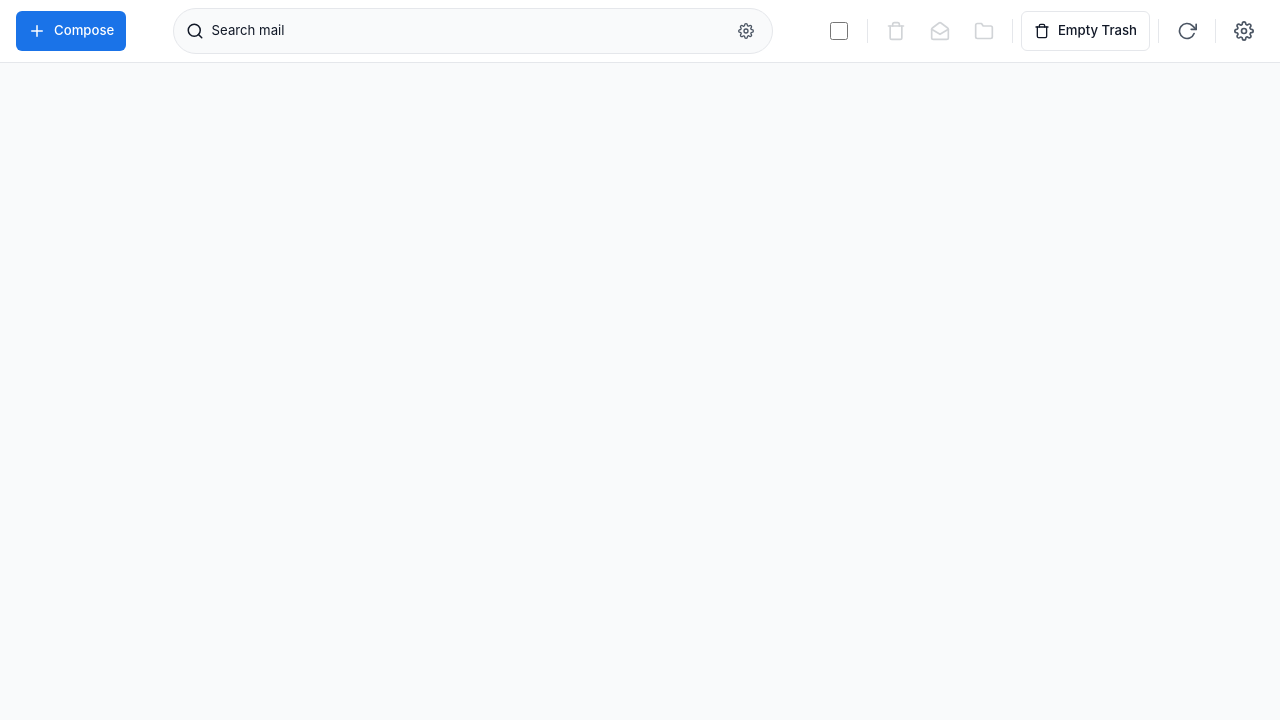
Test: Toolbar — Singular email in confirmation › uses singular "email" when totalCount is 1 for trash
The image size is (1280, 720).
Click the button "Empty Trash".
click(1085, 31)  # box [1021,11,1150,51]
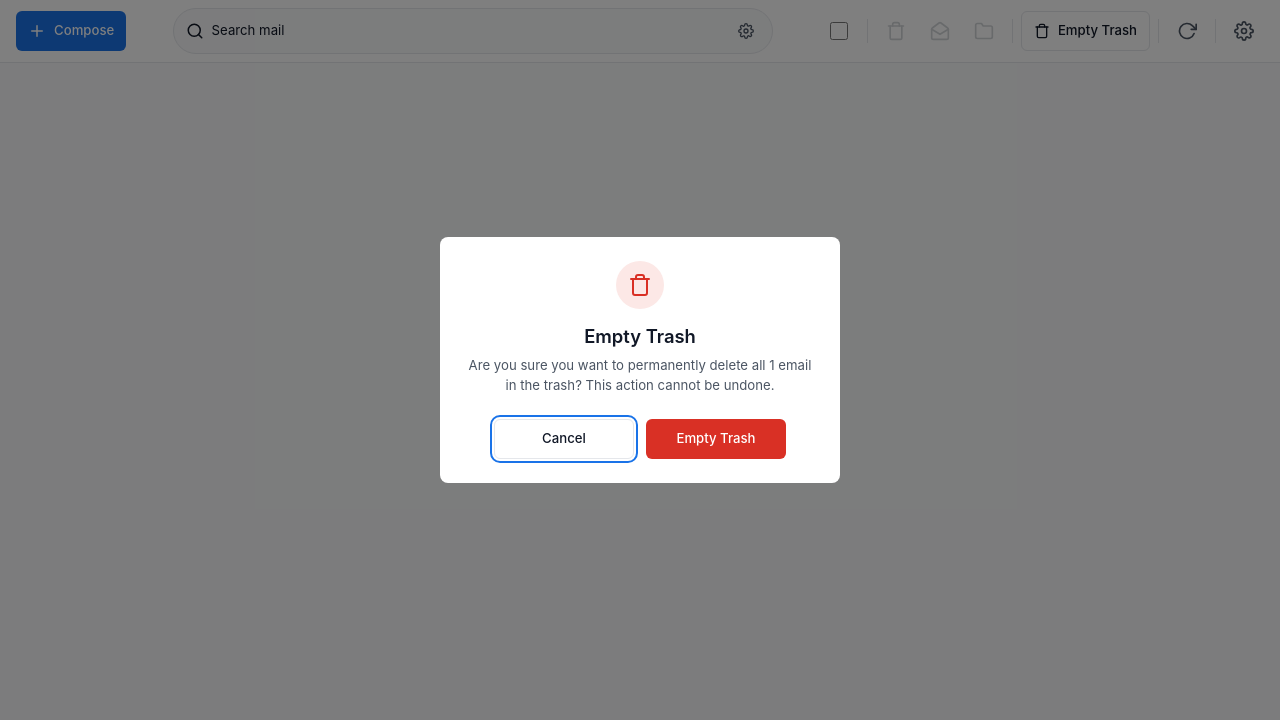
Expected: the text "permanently delete all 1 email in the trash" is shown, [469,357,811,392]
